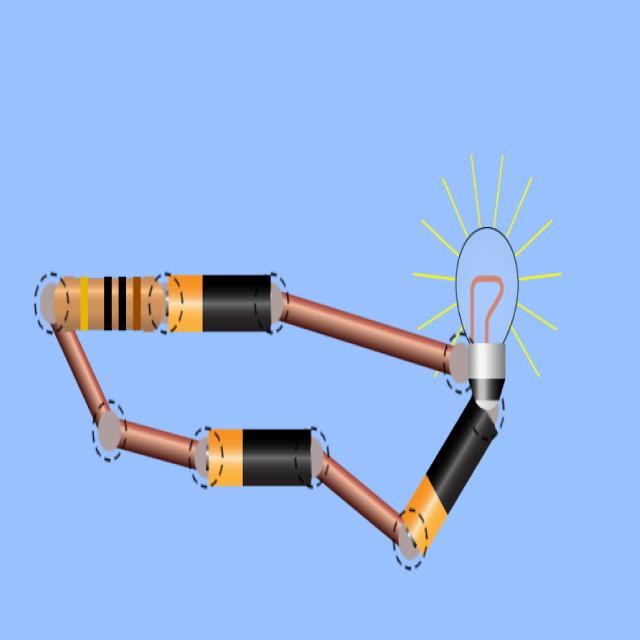Battery: (401, 398, 498, 554), (209, 429, 312, 486), (169, 275, 271, 331)
Light Bulb: (455, 227, 519, 409)
Resistor: (54, 275, 164, 331)
Wire: (280, 295, 454, 372), (319, 456, 402, 541), (54, 324, 109, 424), (118, 421, 197, 468)
